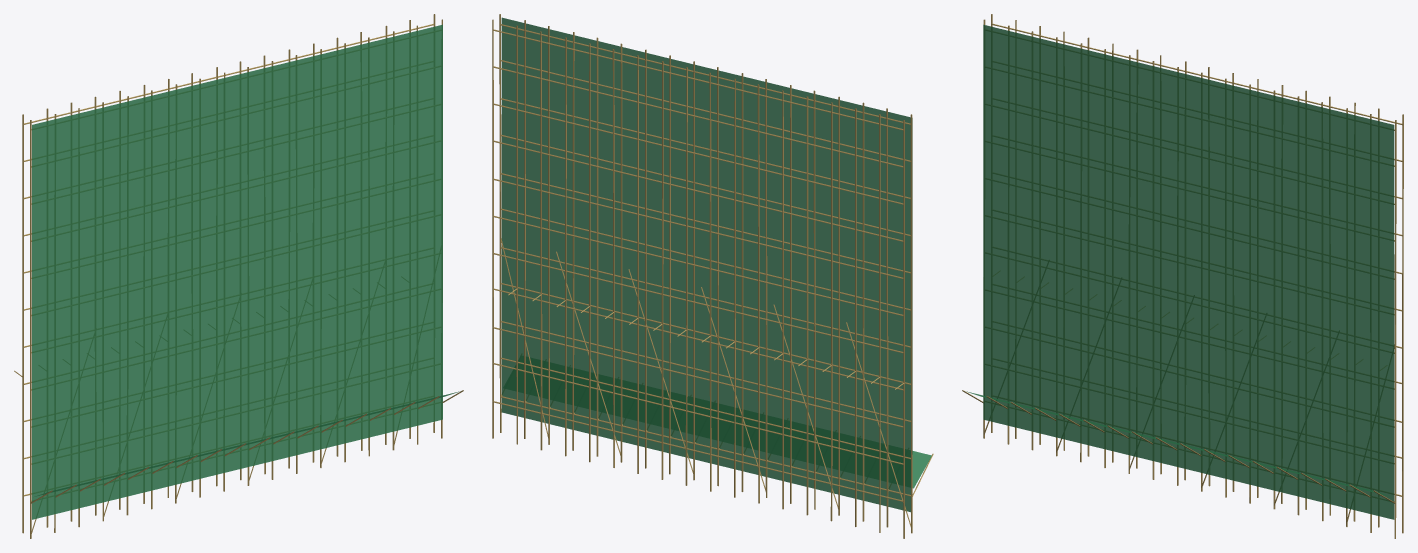
File: hk-striped-walkup-scaffold.glb
The picture shows the model from 3 angles, left to right: view 1: azimuth 30°, elevation 25°; view 2: azimuth 150°, elevation 25°; view 3: azimuth 330°, elevation 25°; orthographic projection.
Visible parts, largest first — view 1: Scaffold_net, Scaffold_bamboo; view 2: Scaffold_net, Scaffold_bamboo; view 3: Scaffold_net, Scaffold_bamboo.
Part boxes in pixels (left/top/right/bottom): Scaffold_net: left=32, top=24, right=459, bottom=519; Scaffold_bamboo: left=14, top=14, right=463, bottom=538; Scaffold_net: left=501, top=17, right=931, bottom=512; Scaffold_bamboo: left=492, top=14, right=933, bottom=538; Scaffold_net: left=966, top=24, right=1394, bottom=519; Scaffold_bamboo: left=962, top=14, right=1403, bottom=538.
Size of the model in its own units: 22.11 by 21.4 by 3.52.
